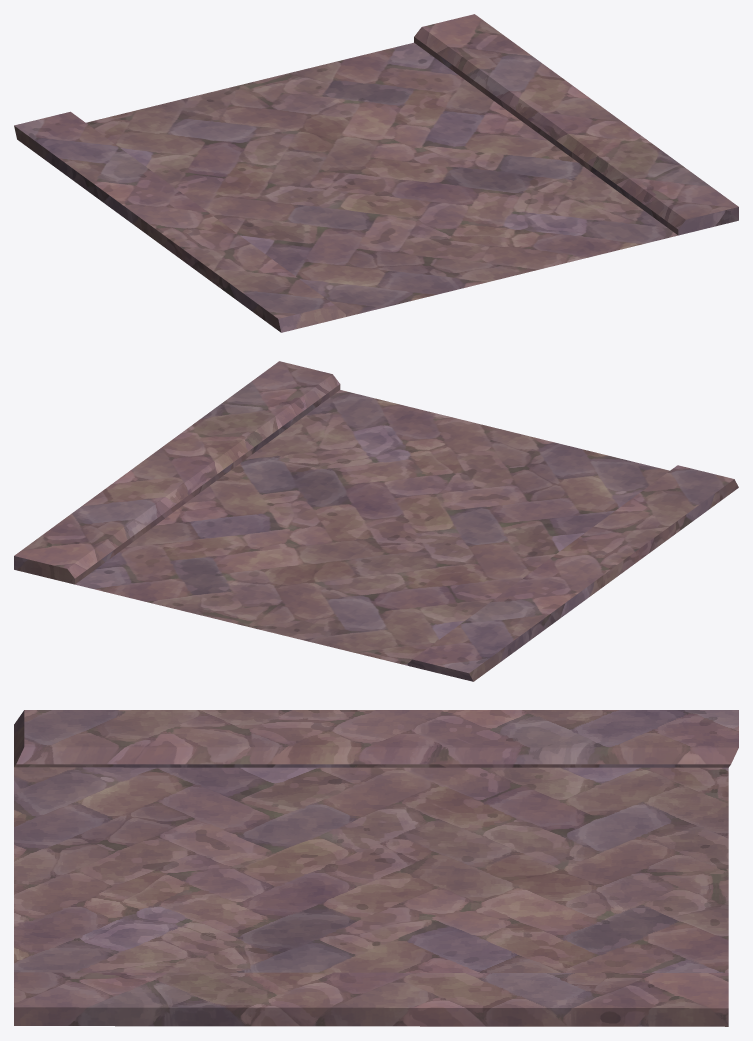
Rendered from nobel_road2.glb.
The picture shows the model from 3 angles, top to bottom: view 1: azimuth 30°, elevation 25°; view 2: azimuth 150°, elevation 25°; view 3: azimuth 270°, elevation 25°; orthographic projection. The views are drawn at different scales.
Visible parts, largest first — view 1: floor; view 2: floor; view 3: floor.
Part boxes in pixels (x1,y1,x2,y2): floor: [14, 14, 738, 332]; floor: [14, 361, 738, 681]; floor: [14, 710, 738, 1026].
Size of the model in its own units: 2 by 0.0599 by 2.03.
Materials: 1 (1 with a texture image).
